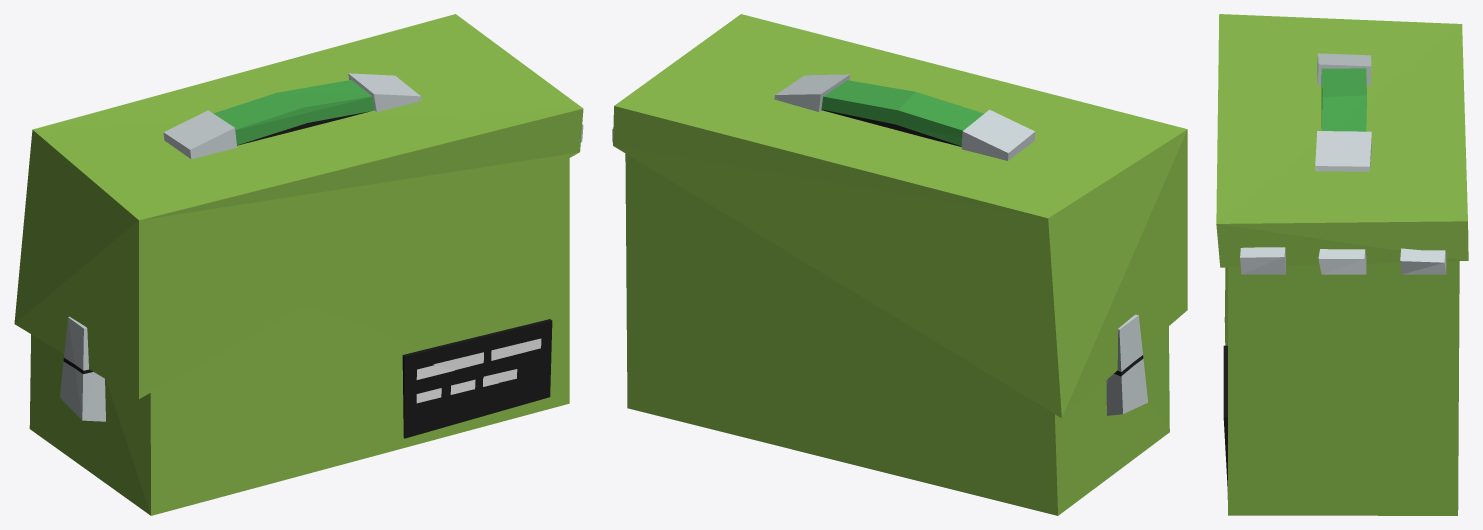
The model's file is Ammo Canister.glb.
3 views of the same model, side by side, from view 1: azimuth 30°, elevation 25°; view 2: azimuth 150°, elevation 25°; view 3: azimuth 270°, elevation 25° (orthographic).
Visible parts, largest first — view 1: group1649598495, group442592491, group1081490818, group877952682, group1056196790, group1715687816, group1826283055; view 2: group1649598495, group442592491, group877952682, group1056196790, group1715687816, group1826283055; view 3: group442592491, group1649598495, group877952682, group1826283055, group46615103, group1707216150, group778948716, group1715687816, group1081490818.
Part boxes in pixels (bbox=[...]): group1649598495: bbox=[14, 14, 583, 398]; group442592491: bbox=[29, 158, 569, 515]; group1081490818: bbox=[402, 319, 552, 438]; group877952682: bbox=[213, 80, 374, 145]; group1056196790: bbox=[60, 316, 105, 421]; group1715687816: bbox=[163, 110, 237, 159]; group1826283055: bbox=[348, 73, 421, 111]; group1649598495: bbox=[613, 14, 1187, 418]; group442592491: bbox=[625, 153, 1169, 515]; group877952682: bbox=[821, 80, 983, 146]; group1056196790: bbox=[1106, 314, 1147, 415]; group1715687816: bbox=[961, 109, 1035, 160]; group1826283055: bbox=[774, 74, 850, 111]; group442592491: bbox=[1224, 261, 1459, 515]; group1649598495: bbox=[1216, 14, 1468, 267]; group877952682: bbox=[1321, 68, 1366, 131]; group1826283055: bbox=[1315, 131, 1371, 171]; group46615103: bbox=[1240, 247, 1285, 274]; group1707216150: bbox=[1318, 249, 1366, 274]; group778948716: bbox=[1400, 248, 1446, 274]; group1715687816: bbox=[1317, 53, 1371, 85]; group1081490818: bbox=[1223, 345, 1227, 491].
Size of the model in its own units: 0.6018 by 0.3978 by 0.2832.
